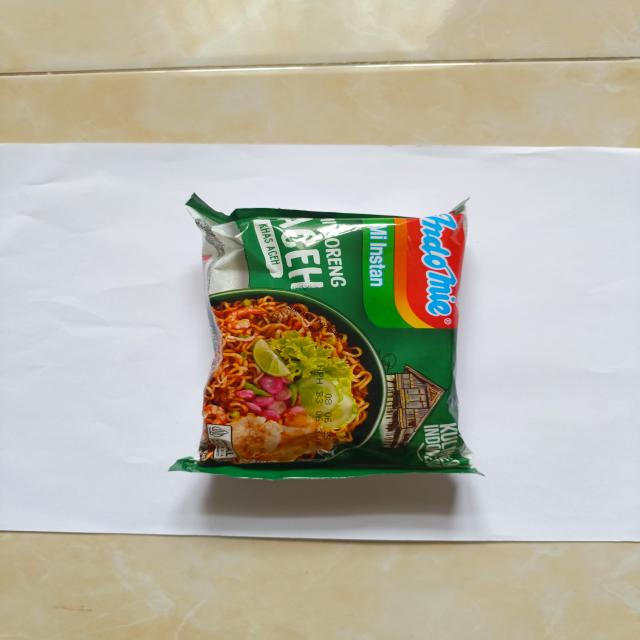gery-salut-coconut: (172, 193, 483, 483)
